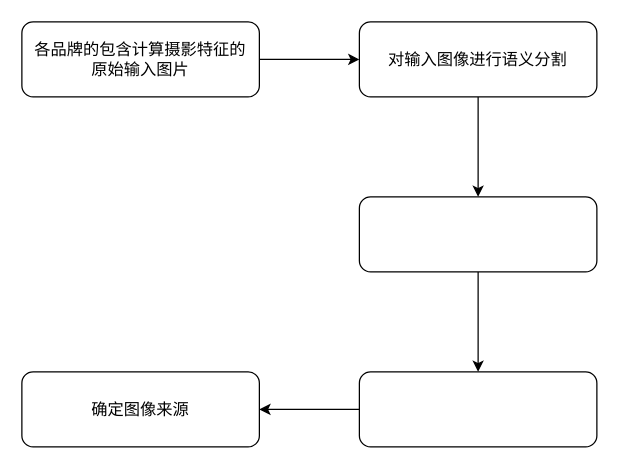
Image size: 619x469. Some labels were removed from this diagram. The shapes that lost their labels are listed below. From the top down, each one's centre as x and y in pixels, then its label:
At pixel 477 234: "按语义块分类提取 语义渲染特征".
At pixel 477 409: "对比预训练的各品牌 原始语义渲染特征".
